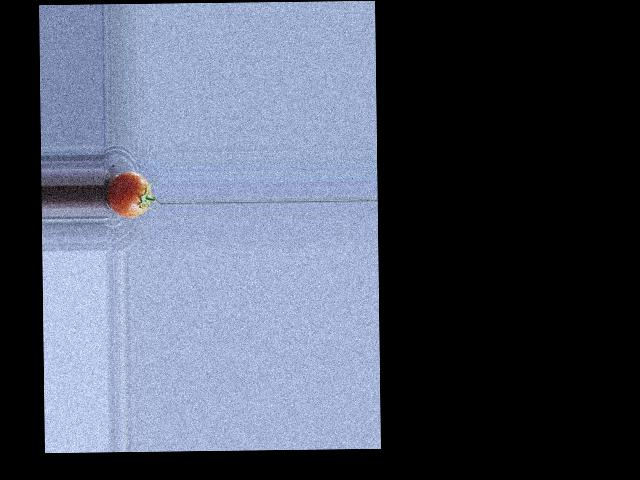tomato: (106, 171, 150, 217)
